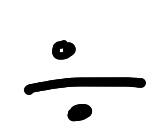div: (22, 41, 146, 120)
